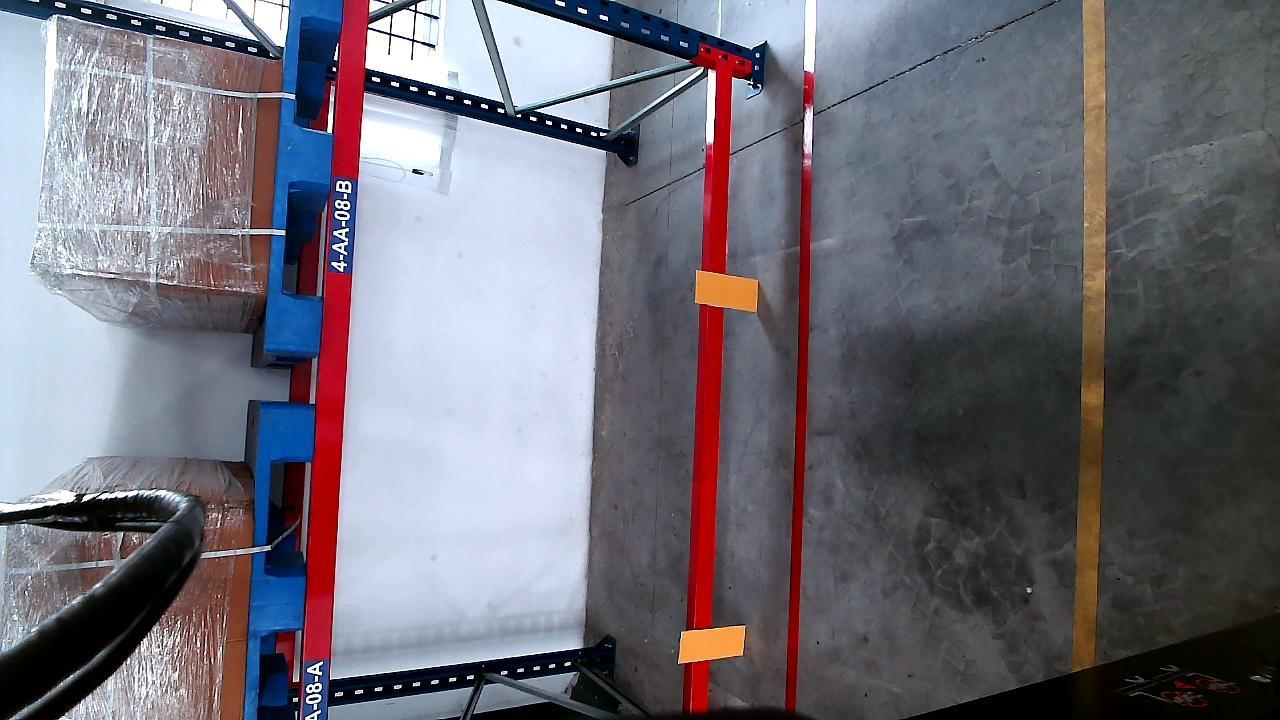red_line: (785, 2, 814, 709)
yellow_line: (1077, 2, 1105, 671)
